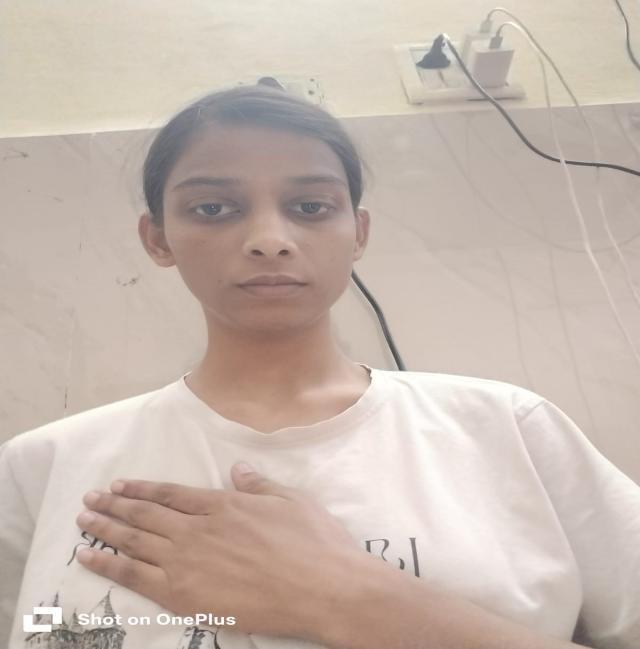Please: (61, 449, 384, 629)
